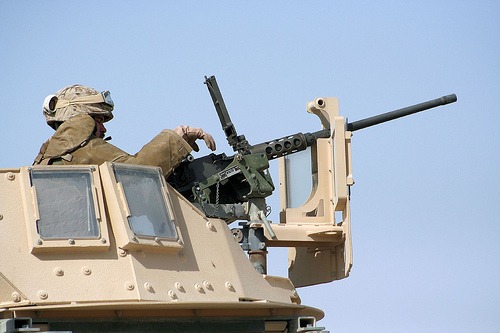rifle: (217, 87, 458, 202)
rifle in hand: (132, 83, 465, 216)
